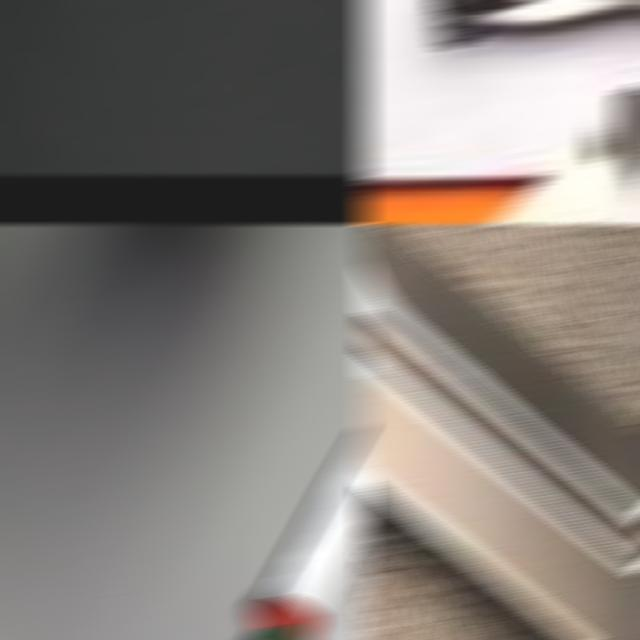Knife: (358, 224, 640, 640), (248, 430, 370, 640)
